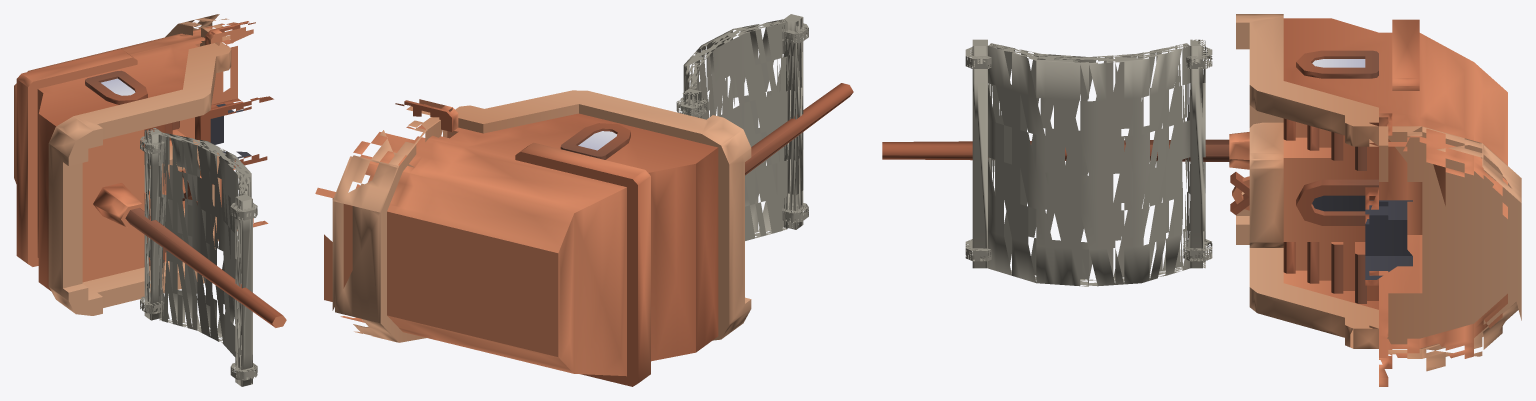
File: SM_Wreck_Medium_Stern.obj
3 renders of one model, left to right at view 1: azimuth 30°, elevation 25°; view 2: azimuth 150°, elevation 25°; view 3: azimuth 270°, elevation 25°, orthographic. The views are drawn at different scales.
Visible parts, largest first — view 1: SM_Wreck_Medium_Stern; view 2: SM_Wreck_Medium_Stern; view 3: SM_Wreck_Medium_Stern.
Part boxes in pixels (x1,y1,x2,y2): SM_Wreck_Medium_Stern: (14,14,286,386); SM_Wreck_Medium_Stern: (315,14,853,386); SM_Wreck_Medium_Stern: (882,14,1521,386).
Size of the model in its own units: 1855 by 1300 by 3104.
2 materials, 1 textured.
